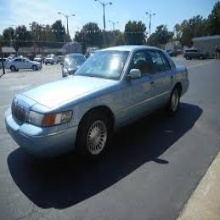no damage: (5, 45, 189, 160)
